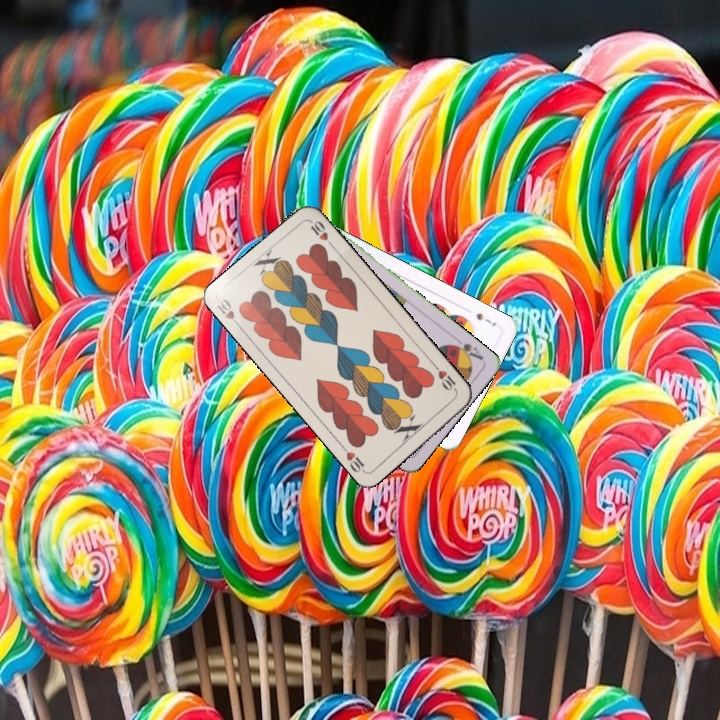H10: (212, 295, 244, 331), (430, 361, 460, 395)
S7: (472, 309, 499, 329)
SA: (447, 334, 486, 364)
